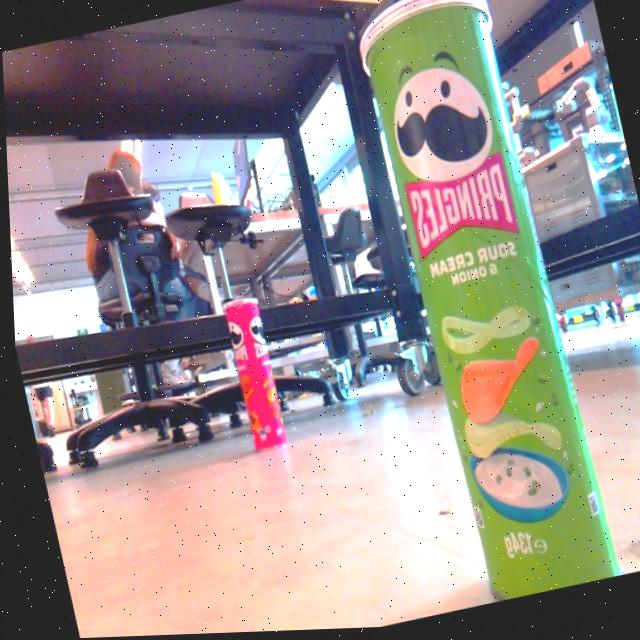greenpringles: (340, 0, 632, 612)
redpringles: (208, 279, 303, 464)
